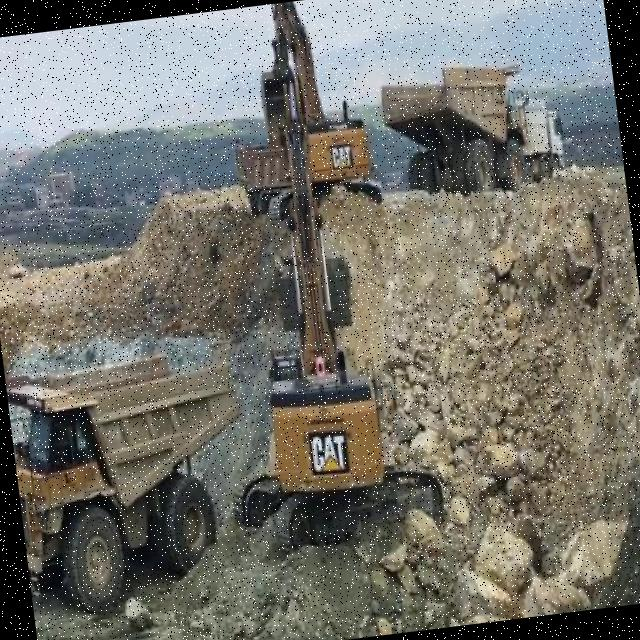Dump Truck: (3, 336, 260, 620), (372, 35, 532, 210), (520, 96, 568, 176)
Excavator: (194, 109, 448, 559), (243, 0, 384, 223)
